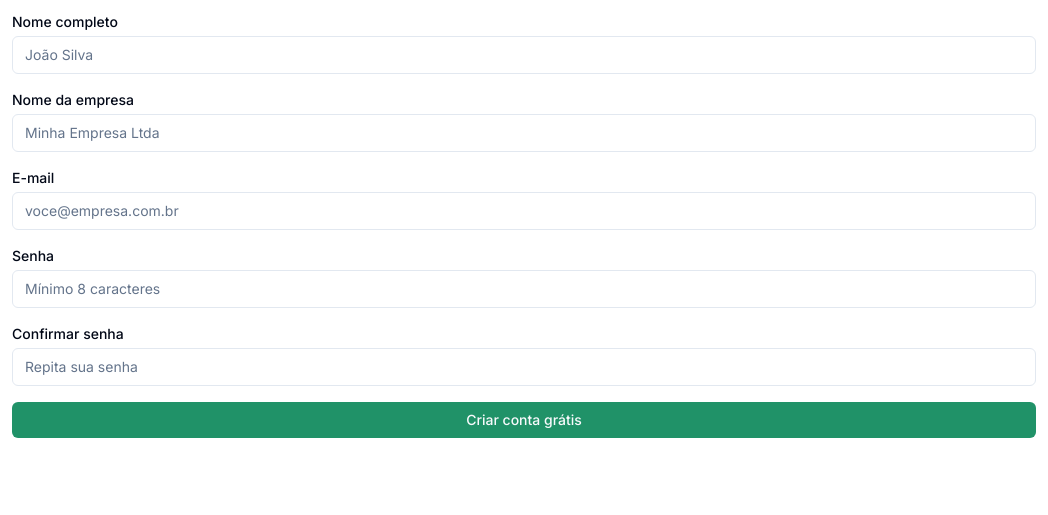
RegisterForm › exibe erro para e-mail inválido
The width and height of the screenshot is (1048, 515).
Type "João" into the field labelled "Nome completo". click: (524, 55)
box: [12,36,1036,74]
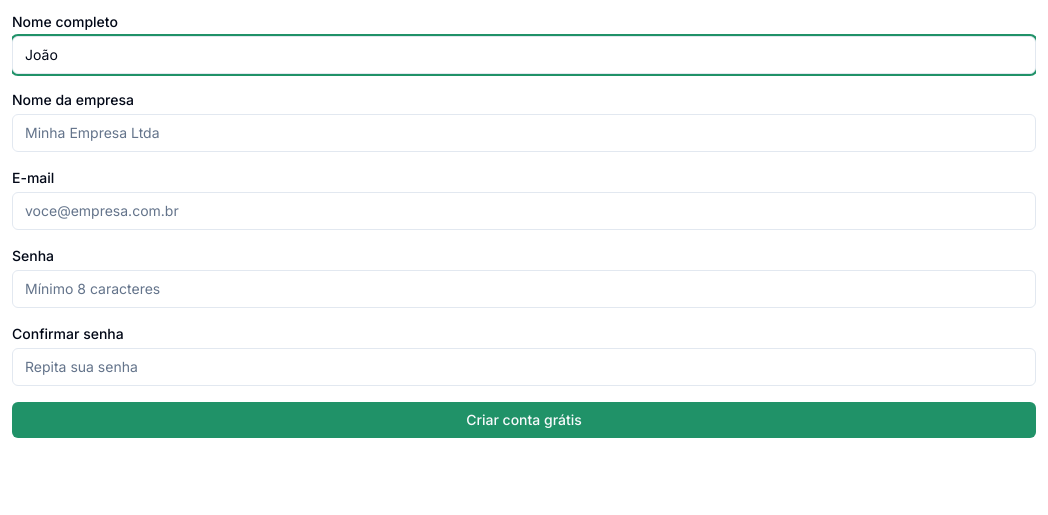
Type "Empresa" into the field labelled "Nome da empresa". click: (524, 133)
box: [12,114,1036,152]
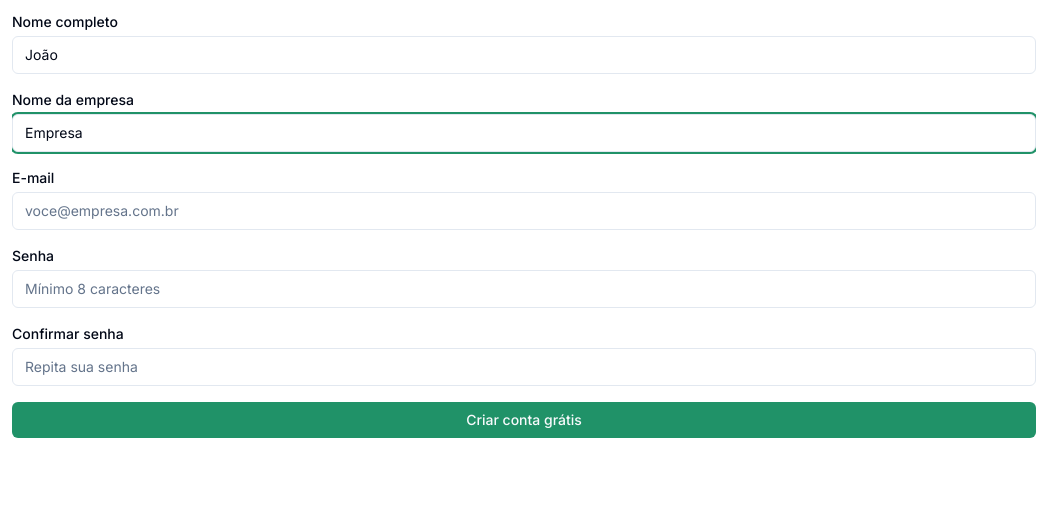
Type "invalido" into the field labelled "E-mail". click: (524, 211)
box: [12,192,1036,230]
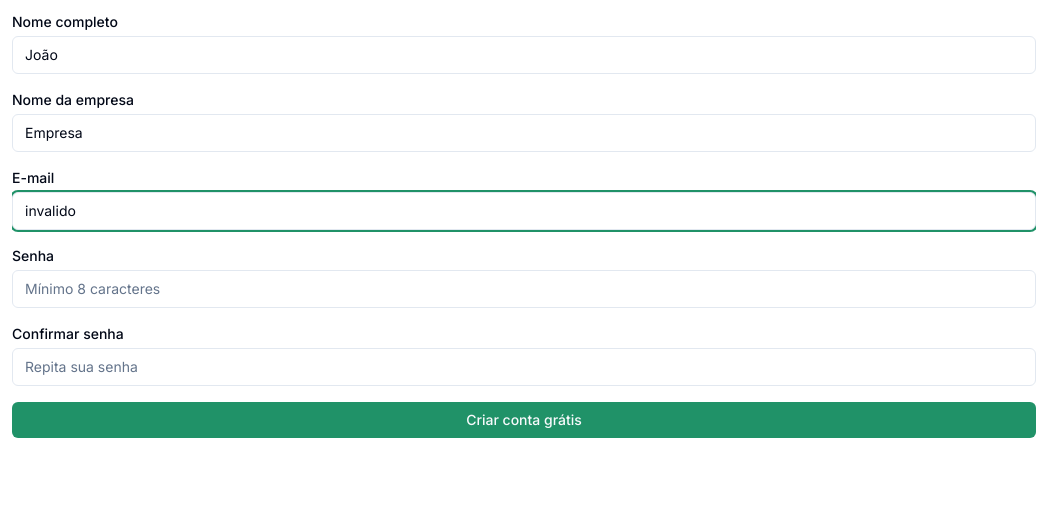
Click the button "Criar conta grátis". click: (524, 420)
box: [12,402,1036,438]
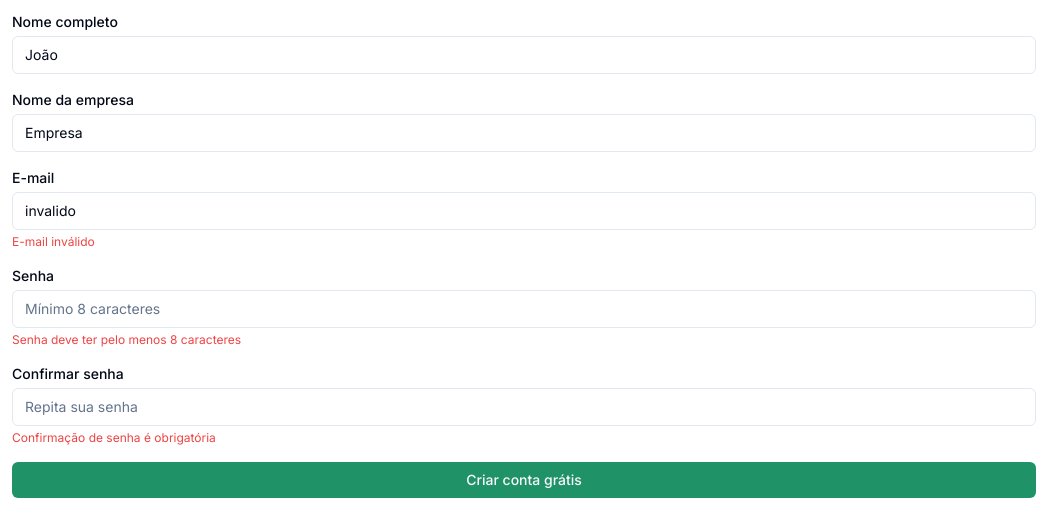
Now the text "E-mail inválido" is shown, box [12,234,95,249]
